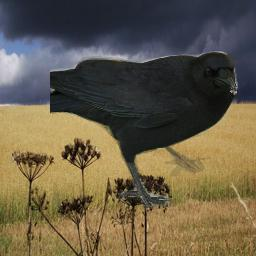Crow: (50, 51, 238, 209)
